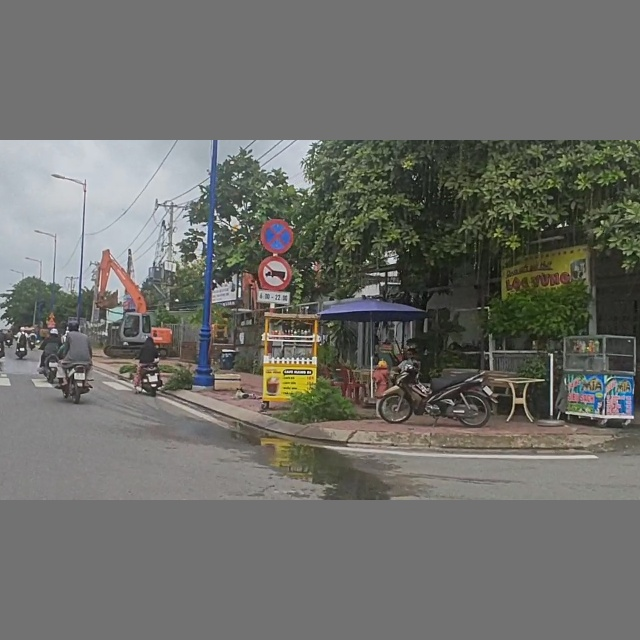B.8a: (258, 255, 292, 291)
P.130: (261, 219, 295, 254)
